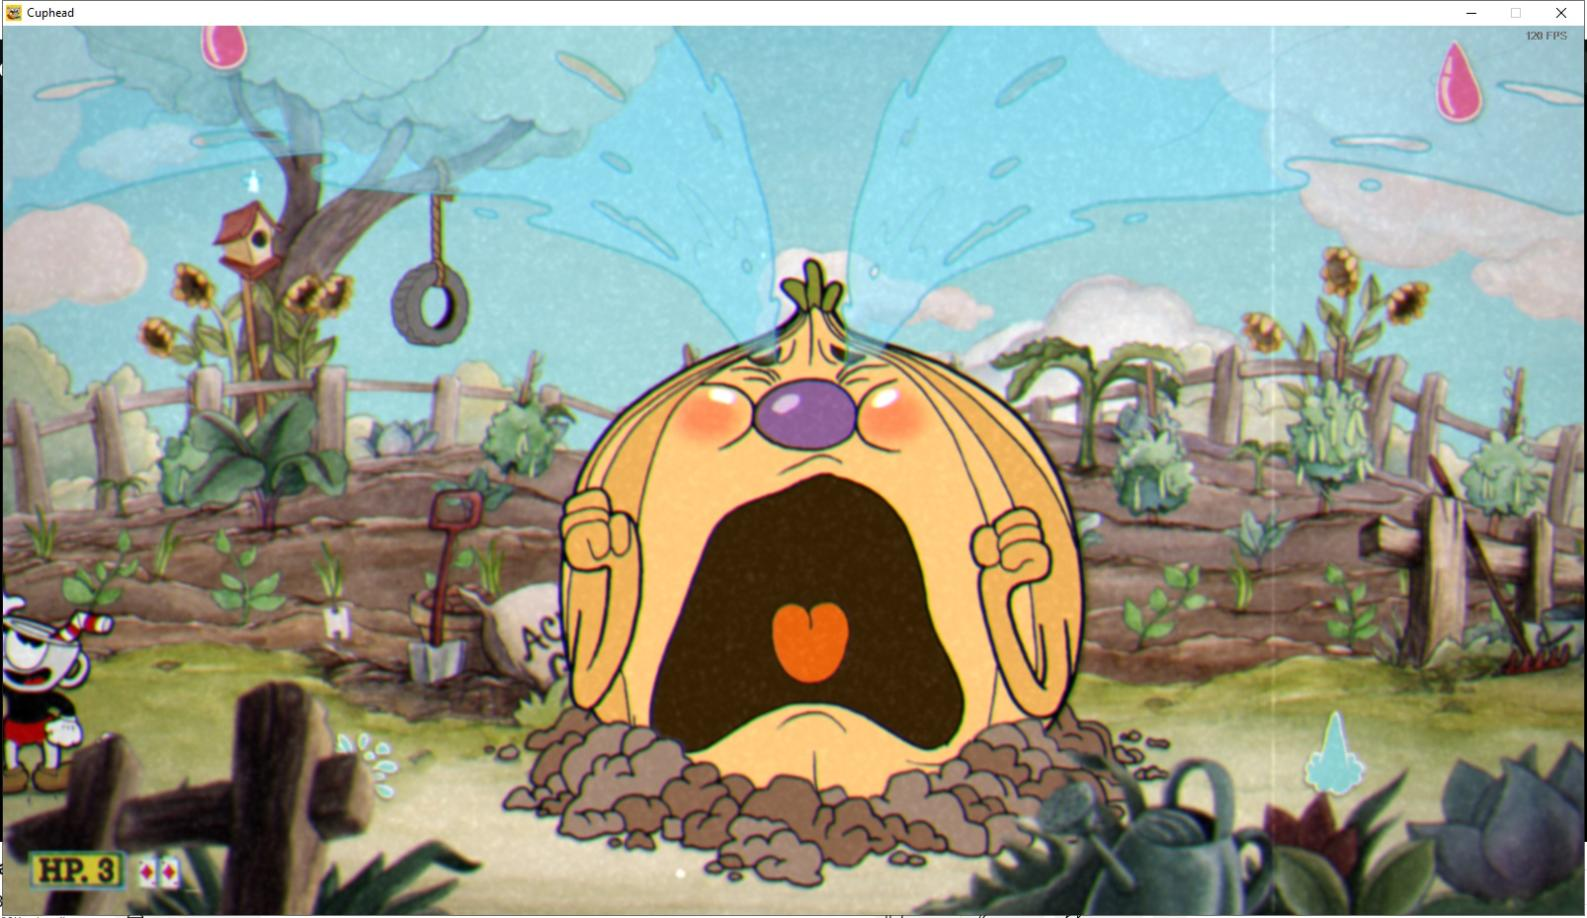hp3: (94, 853, 124, 890)
onion_boss: (550, 254, 1097, 826)
pink_rain: (1428, 37, 1490, 127), (196, 24, 252, 74)
player: (0, 582, 123, 804)
